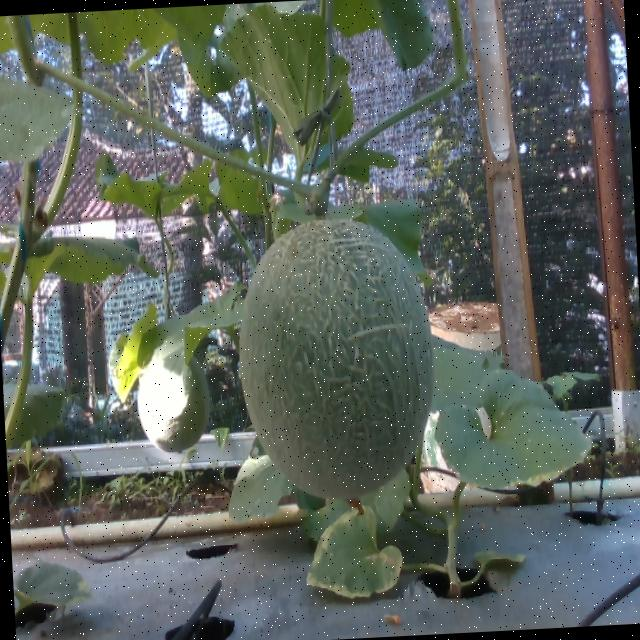melon: (242, 220, 434, 499)
